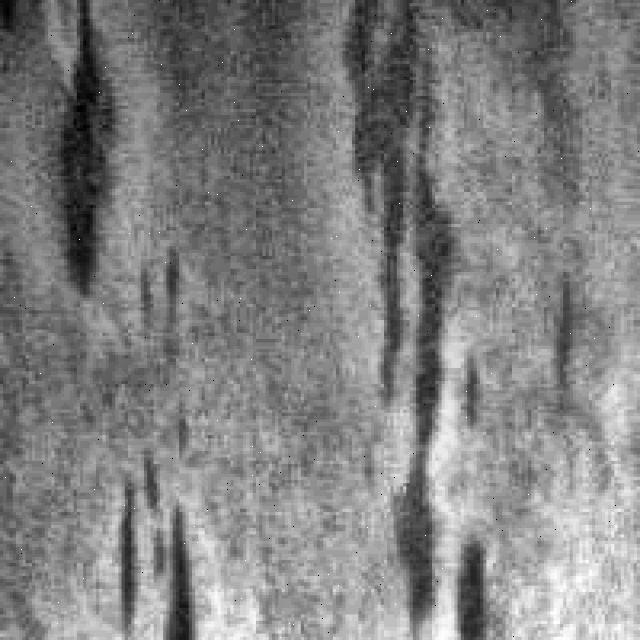Patches: (355, 0, 499, 634), (42, 0, 134, 304), (99, 420, 208, 630), (506, 32, 612, 215), (448, 528, 502, 634)
